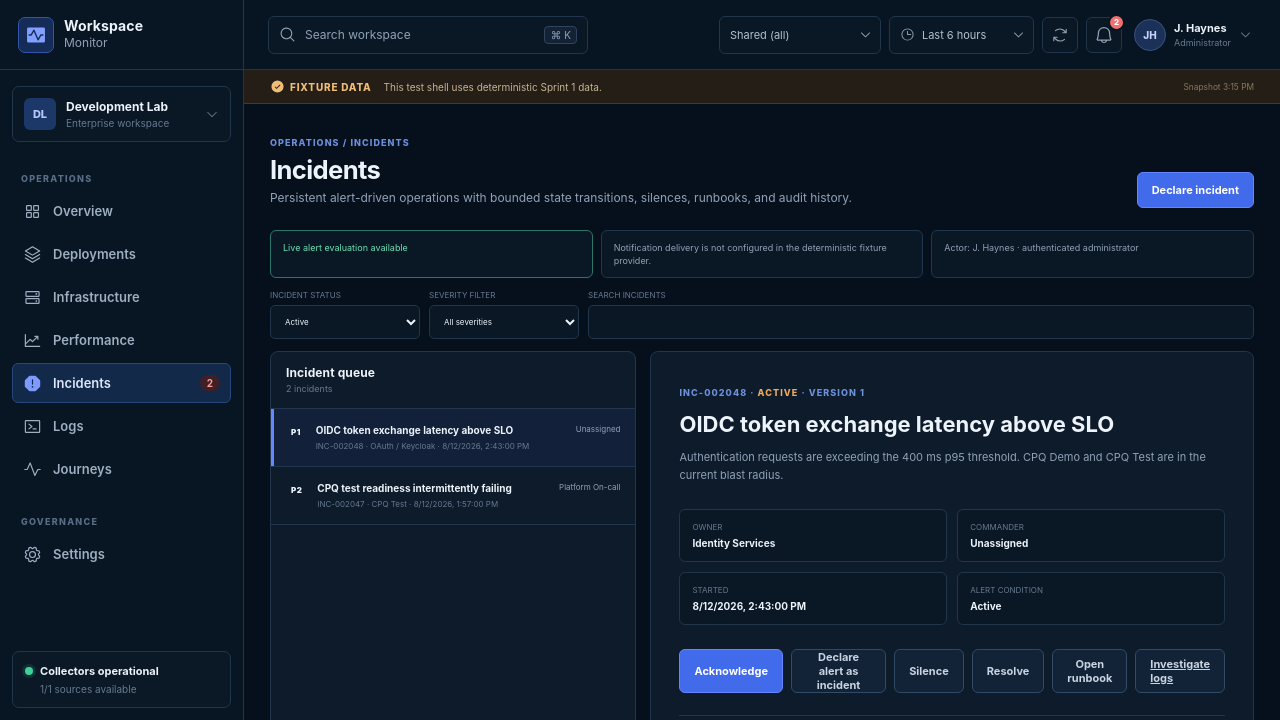
Test case: enterprise application shell › deep-links from an incident to correlated logs without losing the time window
Expected: the heading "Incidents" is shown, [270,154,380,185]
Click the link with aria-label "Investigate logs for OAuth / Keycloak".
click(1180, 670)  # box [1135,648,1225,692]
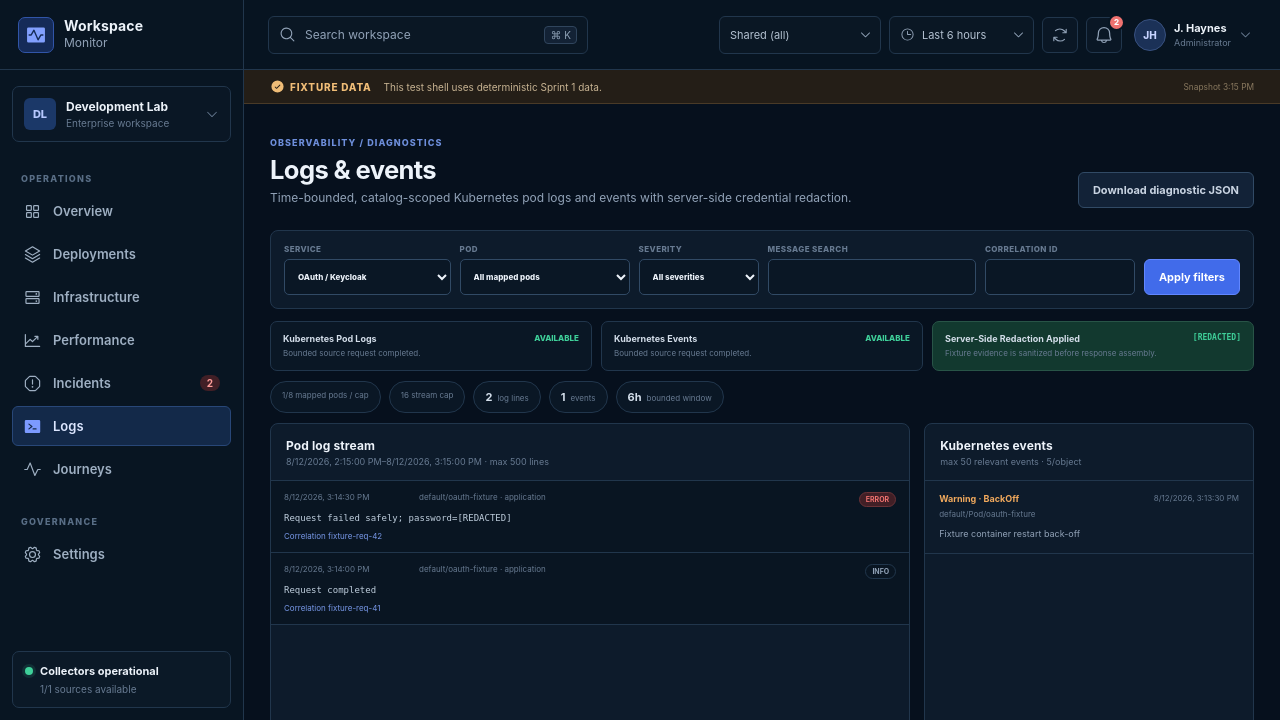
Expected: the 2nd dropdown named "Time range" shows "Last 6 hours", [922,28,1005,42]
Expected: the heading "Logs & events" is shown, [270,154,436,185]
Expected: the dropdown named "Log service" shows "OAuth / Keycloak", [284,259,451,295]
